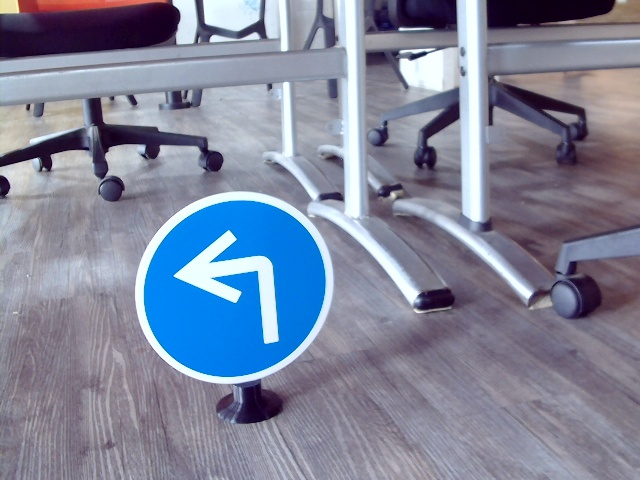turn_left: (173, 226, 293, 346)
